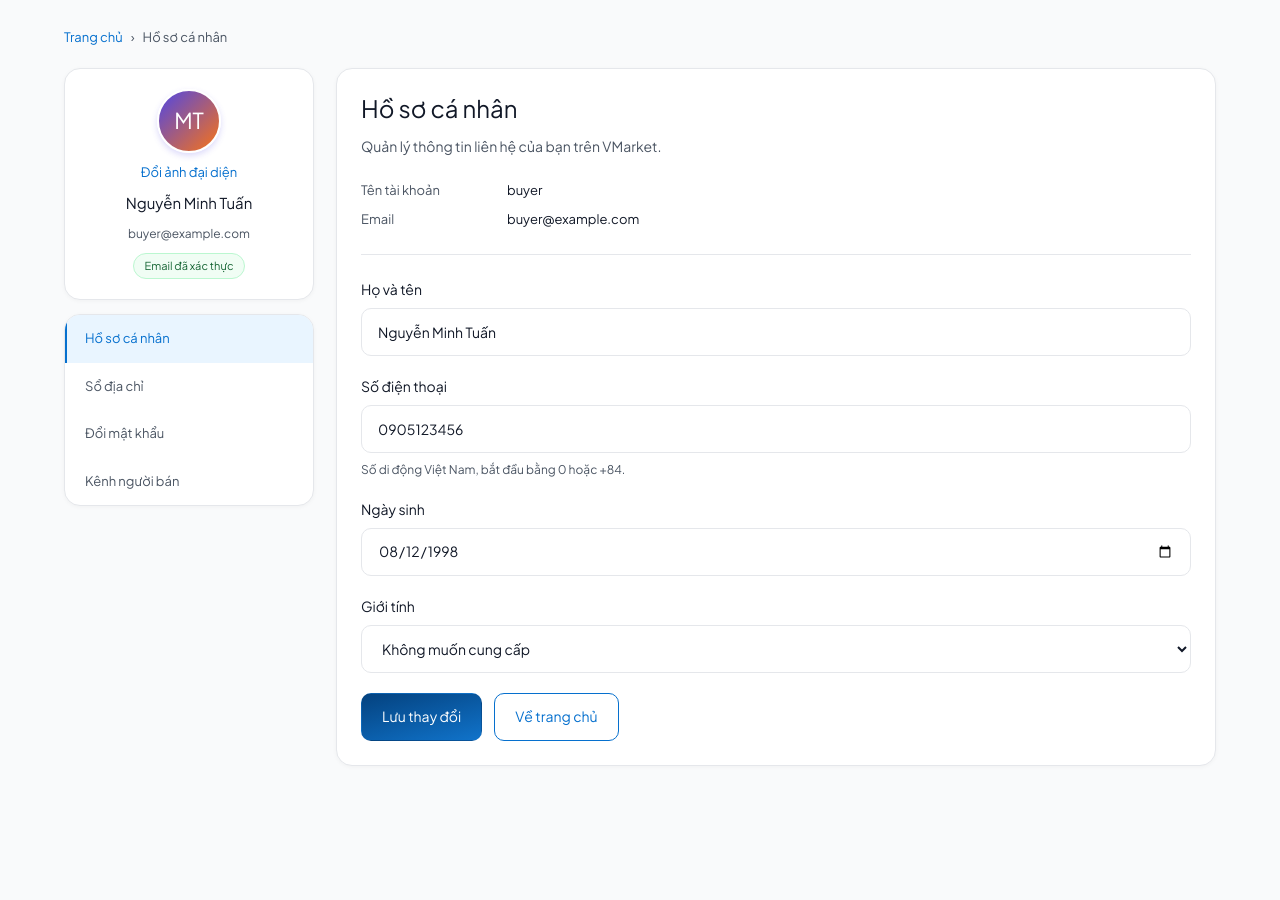
Test: Profile page additions › replaces the phone hint with its validation error
This screenshot has width=1280, height=900.
Type "123" into the field labelled "Số điện thoại" at (776, 429), box [361, 405, 1191, 453]
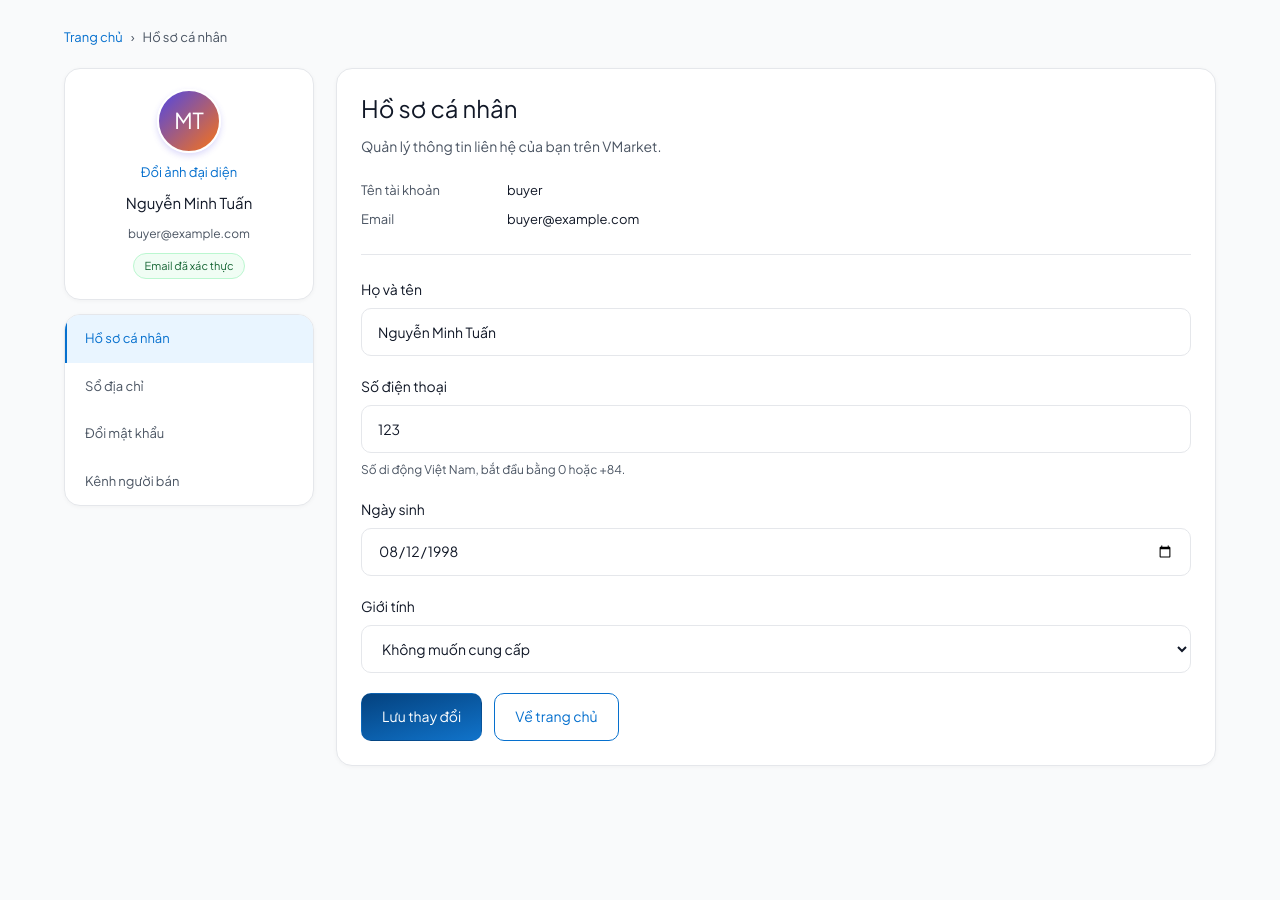
Click the button "Lưu thay đổi" at (422, 717), box [361, 693, 482, 741]
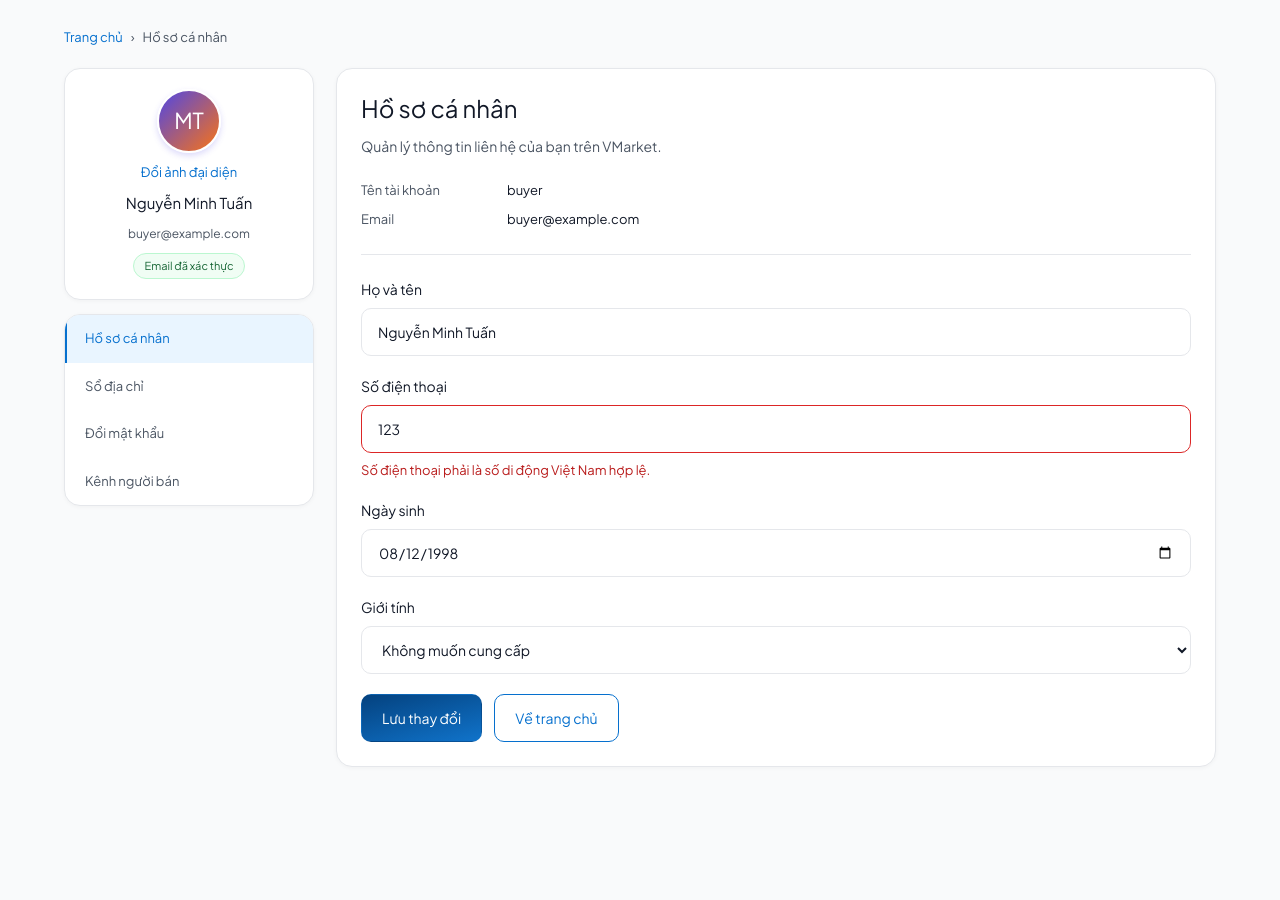
expect the text "Số điện thoại phải là số di động Việt Nam hợp lệ." is shown: met, box [361, 462, 650, 478]
expect the text "Số di động Việt Nam, bắt đầu bằng 0 hoặc +84." is gone: met
